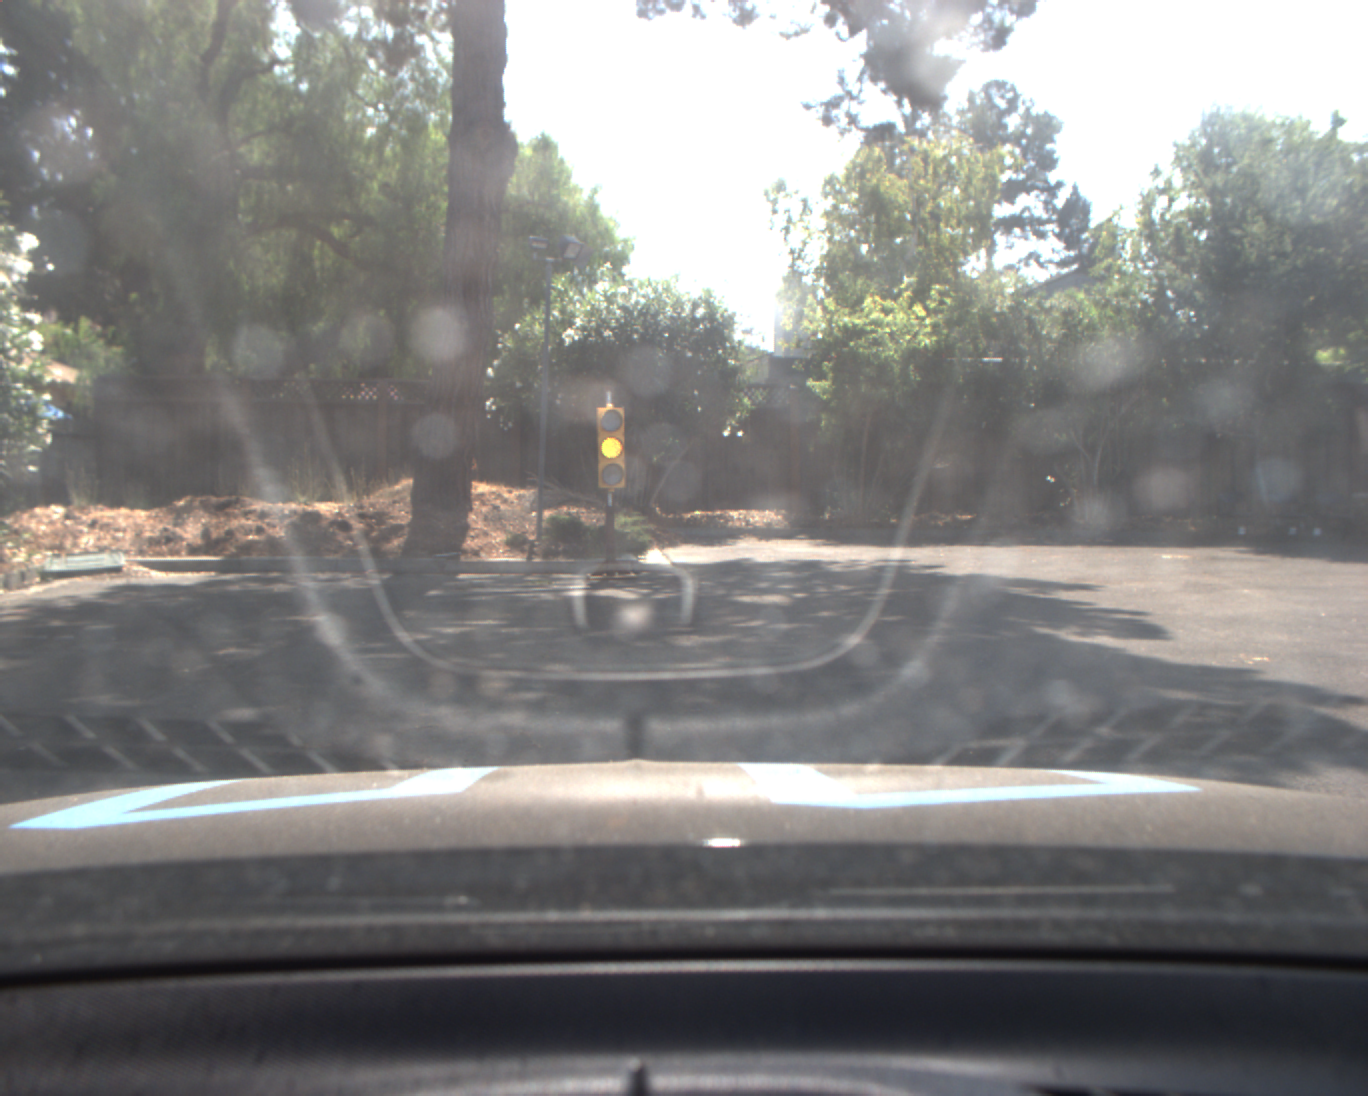yellow: (595, 403, 628, 492)
